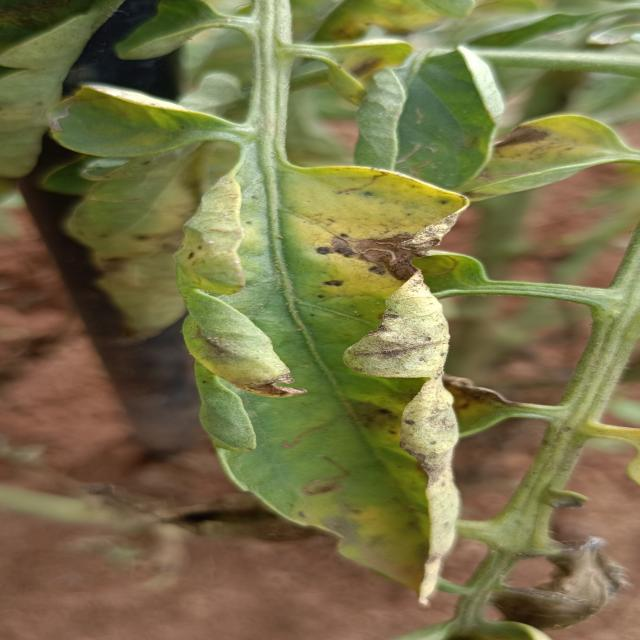tomato_early blight: (34, 89, 468, 599), (455, 114, 639, 200)
